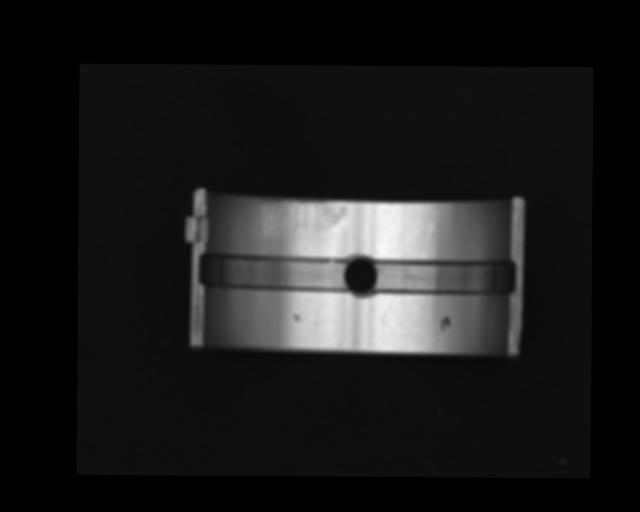blot: (439, 314, 450, 332)
bruise: (292, 314, 300, 322)
gap: (198, 252, 351, 292), (371, 257, 518, 295)
hole: (343, 251, 378, 297)
nick: (422, 221, 434, 259), (313, 308, 319, 339)
scratch: (254, 197, 349, 236)
